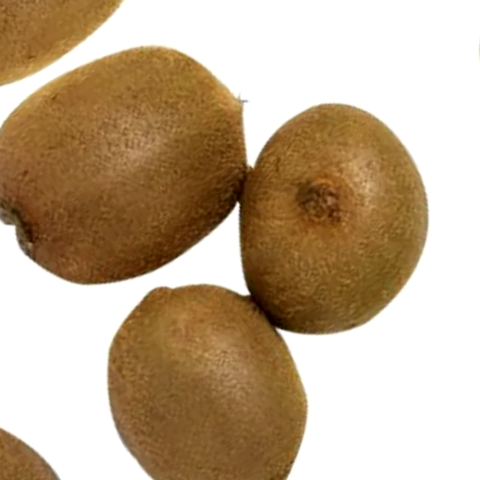kiwi: (160, 53, 480, 396), (0, 0, 316, 347), (36, 235, 348, 480)
